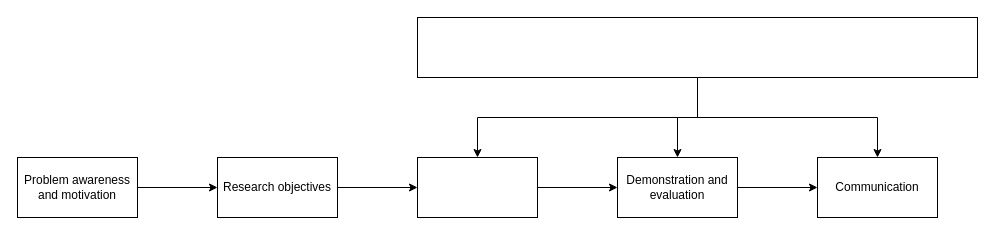
The diagram is 995 pixels wide and 235 high, and some of its shapes have lost their labels. The box of each missing label's shape, as (x1, y1, x2, y2) in pixels:
Design and development: (416, 156, 538, 218)
Iteration process: (416, 16, 978, 78)
